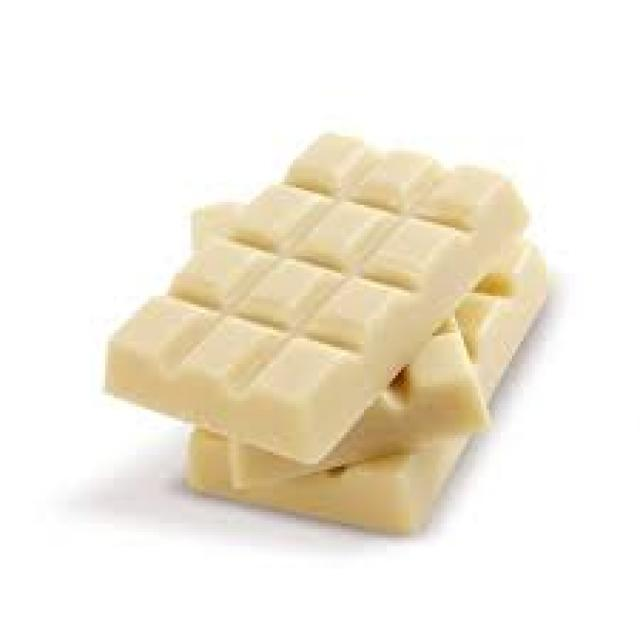Chocolate: (102, 125, 528, 472), (186, 201, 552, 534)
